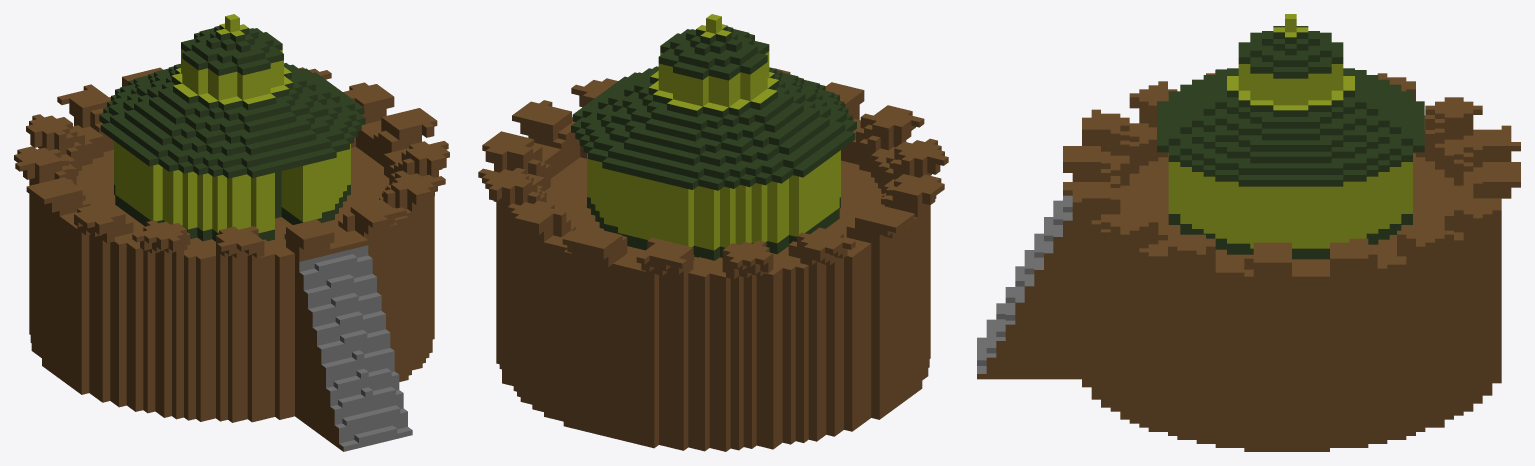
Rendered from Смотрители.fbx.
3 renders of one model, left to right at view 1: azimuth 30°, elevation 25°; view 2: azimuth 150°, elevation 25°; view 3: azimuth 270°, elevation 25°, orthographic. The views are drawn at different scales.
Parts seen in each view (by area): view 1: Cylinder, Cylinder.001; view 2: Cylinder, Cylinder.001; view 3: Cylinder, Cylinder.001.
Boxes of the visible parts, <box> form: Cylinder: <box>14,67,449,451</box>; Cylinder.001: <box>99,14,365,241</box>; Cylinder: <box>478,67,948,451</box>; Cylinder.001: <box>571,14,856,260</box>; Cylinder: <box>977,69,1520,451</box>; Cylinder.001: <box>1157,14,1424,259</box>.
Size of the model in its own units: 314 by 256 by 366.
